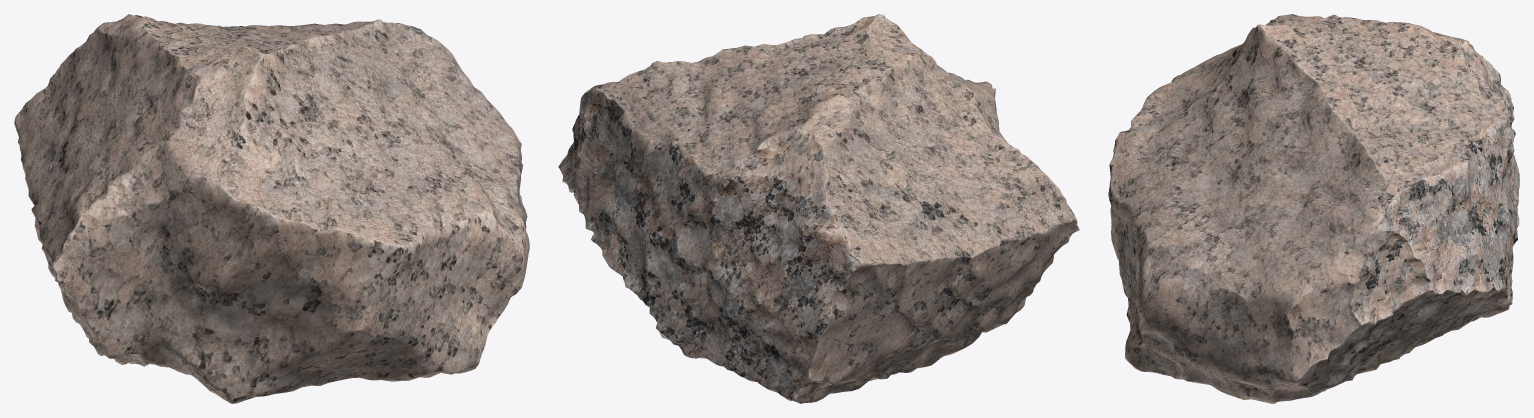
Rendered from rock-granite-white.glb.
The picture shows the model from 3 angles, left to right: view 1: azimuth 30°, elevation 25°; view 2: azimuth 150°, elevation 25°; view 3: azimuth 270°, elevation 25°; orthographic projection. The views are drawn at different scales.
Size of the model in its own units: 0.958 by 0.5977 by 0.7471.
1 material, 1 textured.
